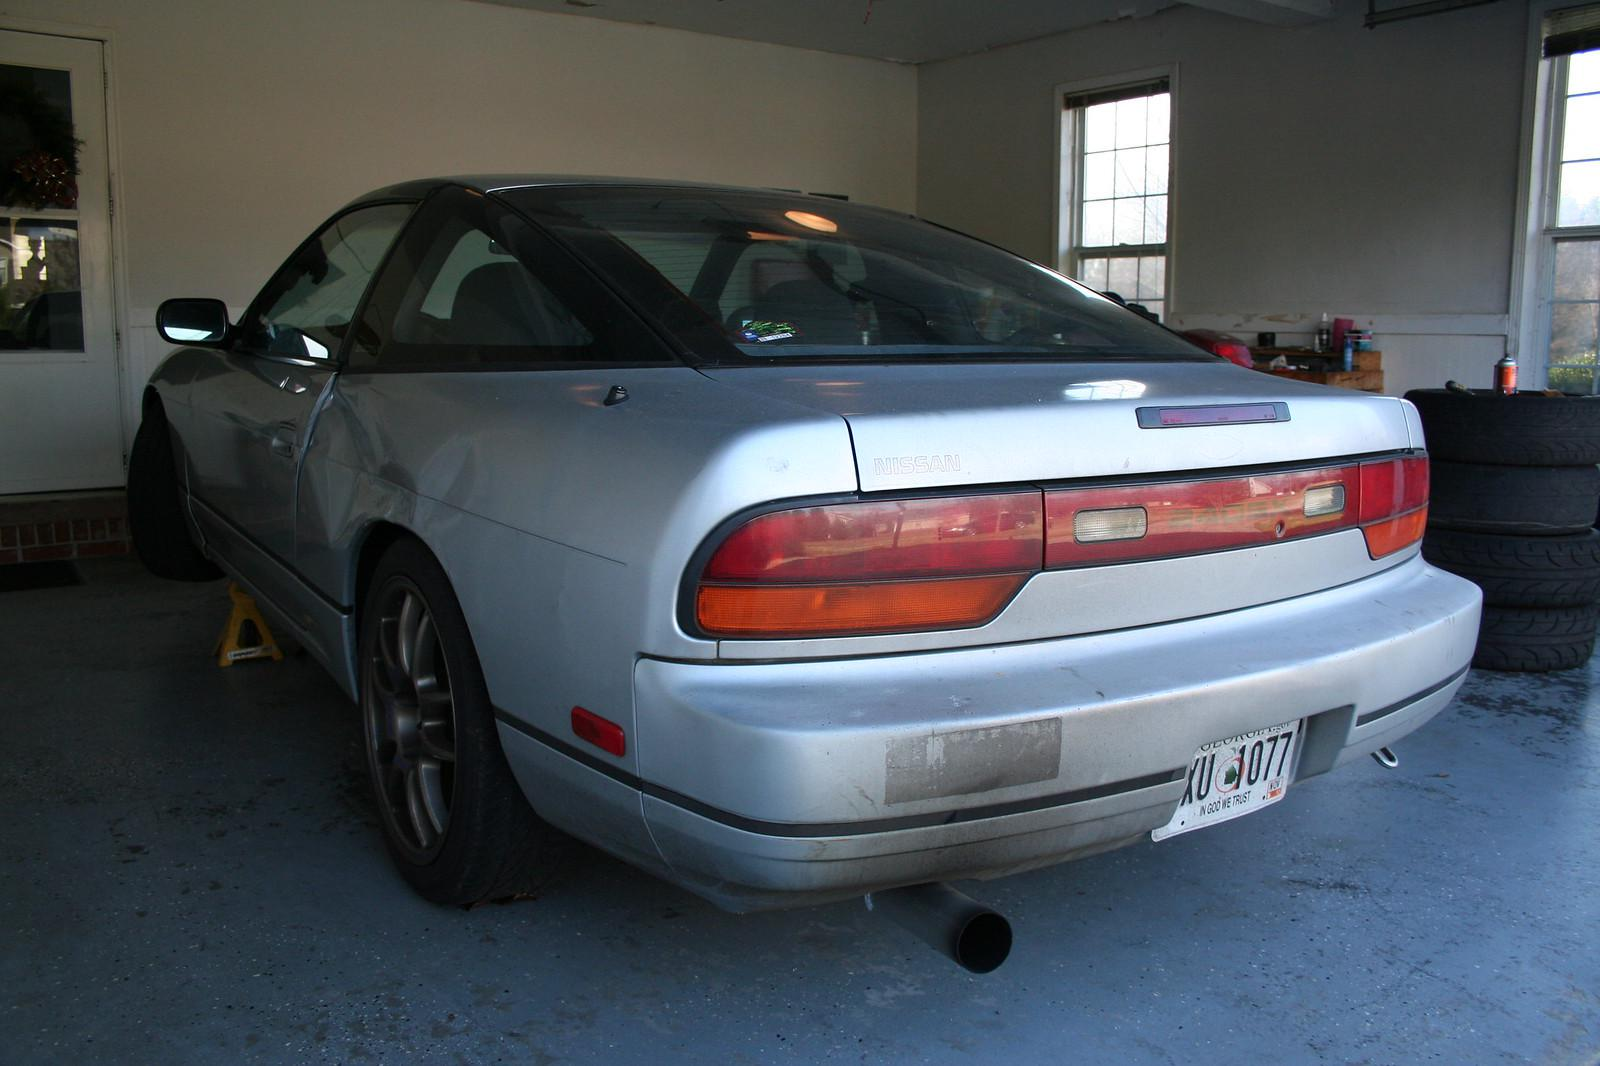quaterpanel-dent: (316, 380, 606, 581)
